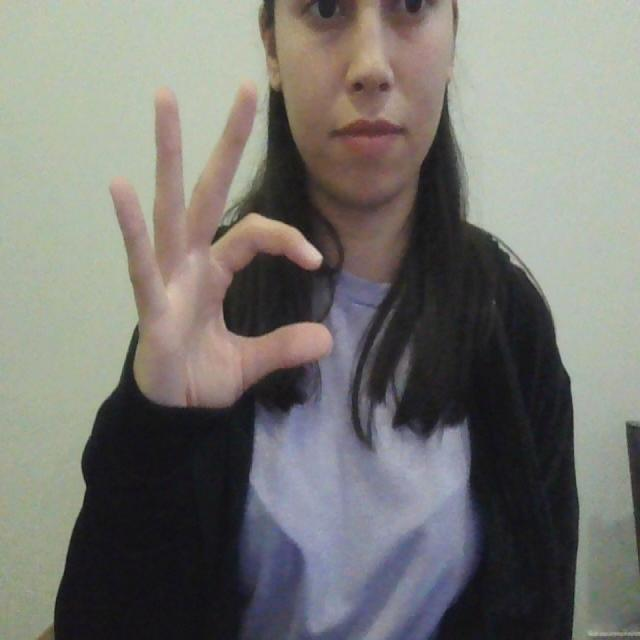Tuvalet: (70, 66, 350, 432)
